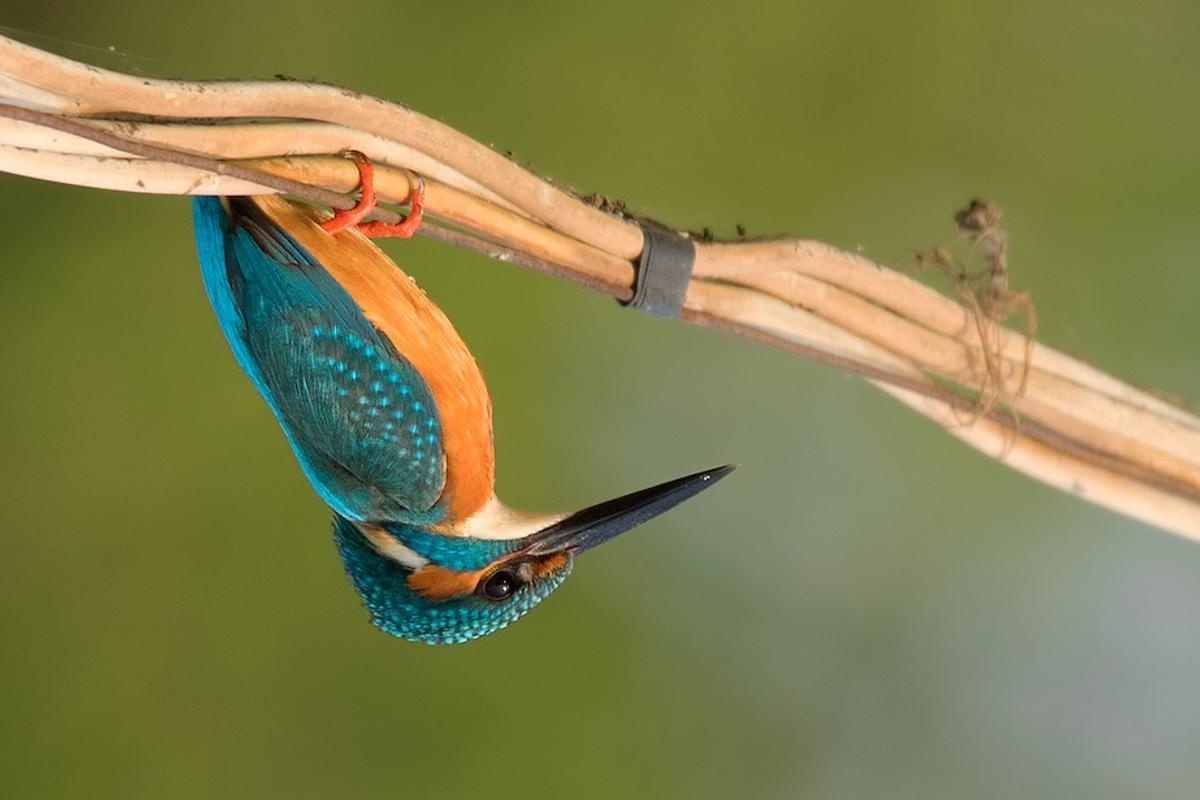kingfisher: (192, 151, 749, 651)
